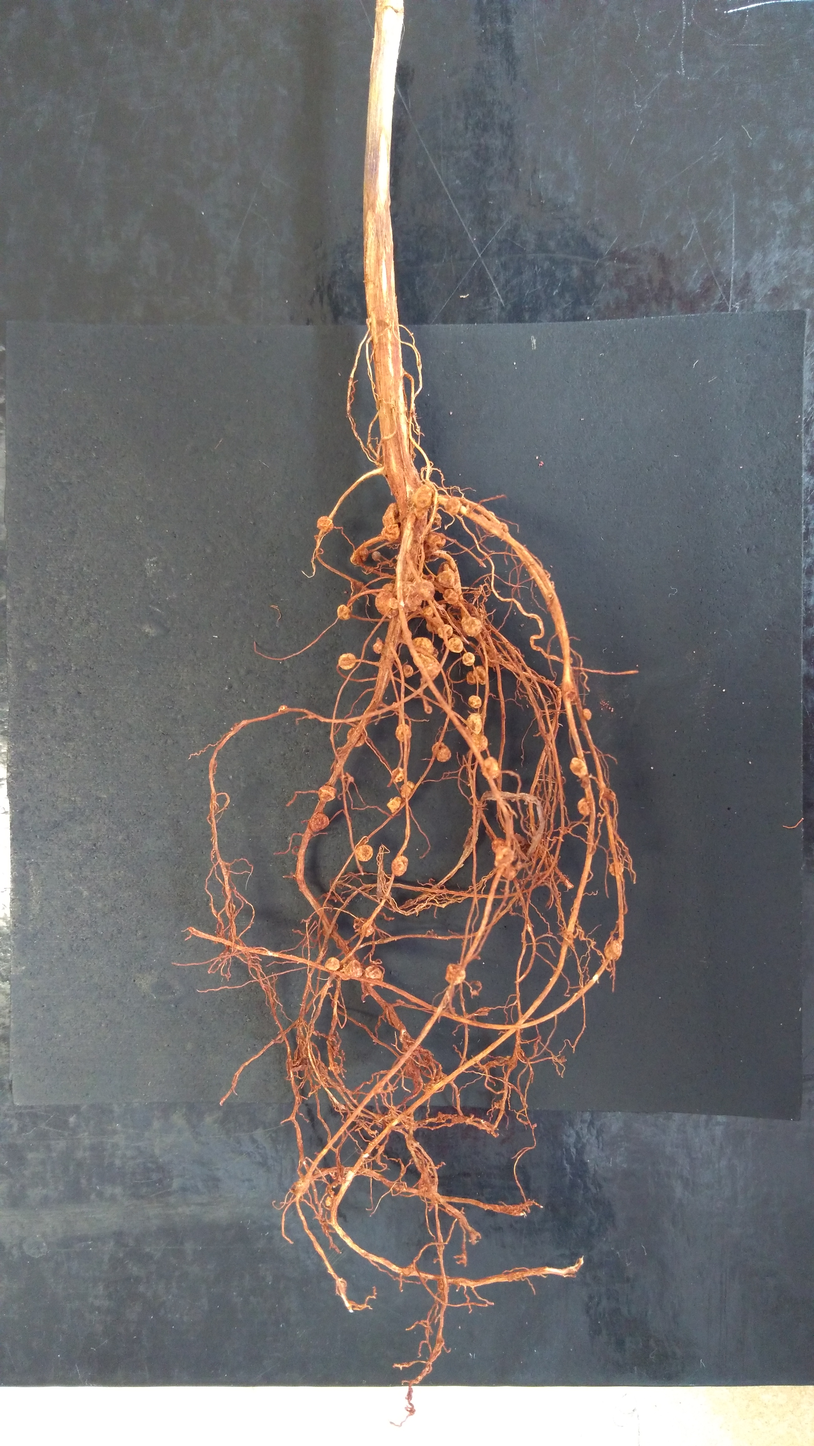nodule: (412, 653, 440, 681), (400, 579, 422, 612), (374, 590, 399, 618), (414, 578, 436, 602), (435, 563, 456, 588), (461, 615, 483, 637), (412, 636, 435, 657), (445, 962, 466, 985), (308, 812, 330, 833), (414, 484, 433, 508), (381, 502, 399, 527), (431, 741, 452, 762), (493, 845, 514, 866), (346, 726, 366, 747), (364, 964, 383, 986), (343, 959, 364, 978), (568, 757, 587, 778), (603, 939, 622, 960), (391, 855, 409, 877), (466, 712, 483, 735), (483, 756, 500, 779), (469, 732, 488, 752), (350, 547, 369, 566), (355, 844, 374, 863), (380, 524, 400, 541), (473, 664, 489, 685), (561, 680, 577, 701), (395, 724, 413, 742), (444, 496, 461, 515), (426, 617, 445, 634), (338, 653, 357, 670), (317, 784, 336, 801), (427, 532, 447, 547), (442, 588, 459, 605), (316, 515, 334, 531), (321, 921, 337, 938), (437, 559, 453, 575), (437, 624, 453, 640), (447, 637, 463, 653), (386, 796, 402, 812), (486, 651, 502, 667), (324, 957, 341, 972), (400, 781, 414, 799), (576, 798, 590, 816), (336, 604, 351, 620), (382, 583, 398, 598), (490, 838, 506, 853), (608, 861, 624, 876), (501, 865, 516, 880), (391, 767, 405, 783), (371, 637, 383, 654), (462, 652, 476, 666), (429, 511, 442, 526), (468, 695, 483, 708), (414, 506, 426, 519), (580, 775, 591, 788), (466, 671, 476, 685), (403, 664, 413, 677), (365, 924, 375, 937), (388, 597, 398, 609), (583, 708, 592, 721), (371, 551, 382, 561), (423, 606, 433, 617), (463, 725, 474, 735), (599, 787, 609, 798), (499, 522, 509, 532), (608, 791, 616, 801), (432, 647, 439, 658), (325, 1196, 332, 1206), (279, 704, 287, 711), (487, 510, 495, 517)
